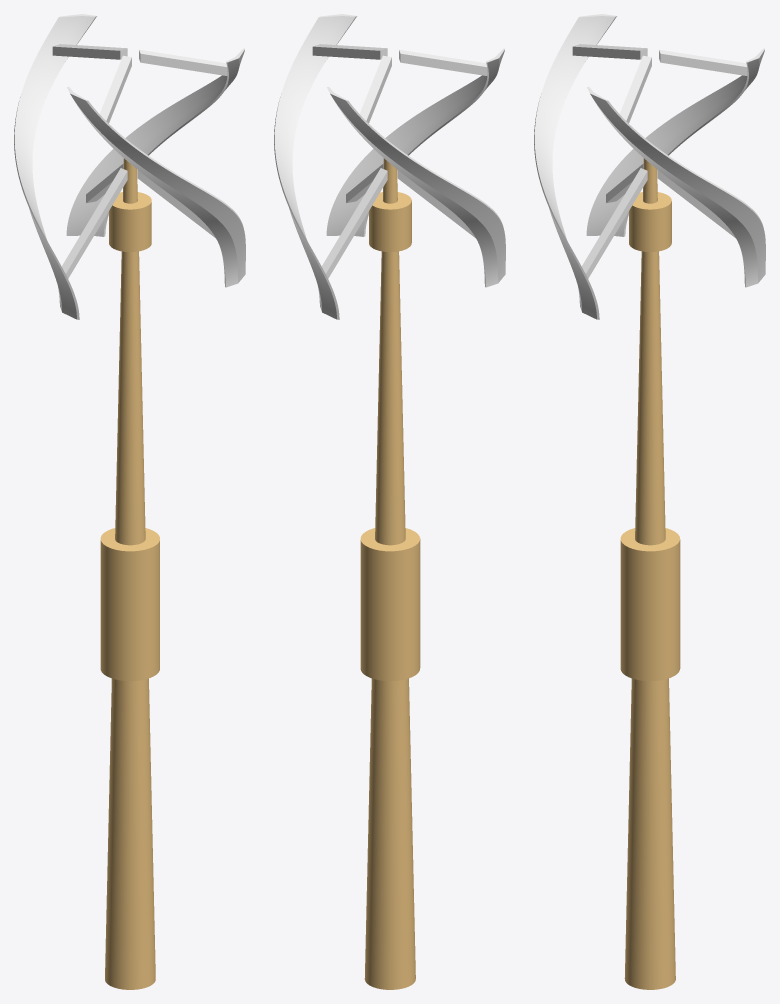
File: verticalAxisWindTurbineAnimated.glb
3 renders of one model, left to right at view 1: azimuth 30°, elevation 25°; view 2: azimuth 150°, elevation 25°; view 3: azimuth 270°, elevation 25°, orthographic.
Parts seen in each view (by area): view 1: Tower_3.001, Blade_1.001; view 2: Tower_3.001, Blade_1.001; view 3: Tower_3.001, Blade_1.001.
Boxes of the visible parts, box(x1,y1,x2,y2) form: Tower_3.001: box(100, 158, 159, 989); Blade_1.001: box(14, 14, 245, 319); Tower_3.001: box(360, 158, 420, 989); Blade_1.001: box(274, 14, 505, 319); Tower_3.001: box(620, 158, 680, 989); Blade_1.001: box(534, 14, 765, 319).
Size of the model in its own units: 4.09 by 17.99 by 4.08.
